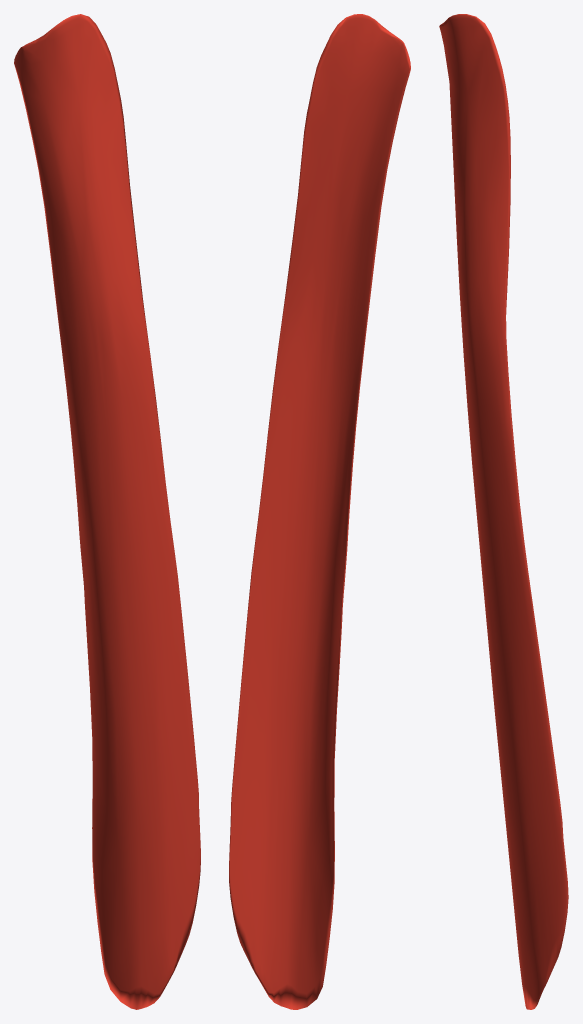
File: Origin_of_vastus_intermedius.r_Generated_Mesh_From_X3D.865.glb
3 renders of one model, left to right at view 1: azimuth 30°, elevation 25°; view 2: azimuth 210°, elevation 25°; view 3: azimuth 330°, elevation 25°, orthographic. The views are drawn at different scales.
Visible parts, largest first — view 1: Origin_of_vastus_intermedius.r_Generated_Mesh_From_X3D.865; view 2: Origin_of_vastus_intermedius.r_Generated_Mesh_From_X3D.865; view 3: Origin_of_vastus_intermedius.r_Generated_Mesh_From_X3D.865.
Boxes of the visible parts, box(x1,y1,x2,y2) form: Origin_of_vastus_intermedius.r_Generated_Mesh_From_X3D.865: box(14, 14, 200, 1009); Origin_of_vastus_intermedius.r_Generated_Mesh_From_X3D.865: box(229, 14, 410, 1009); Origin_of_vastus_intermedius.r_Generated_Mesh_From_X3D.865: box(439, 14, 568, 1009).
Bounding box in the file's own units: 0.0483 × 0.297 × 0.0213.
